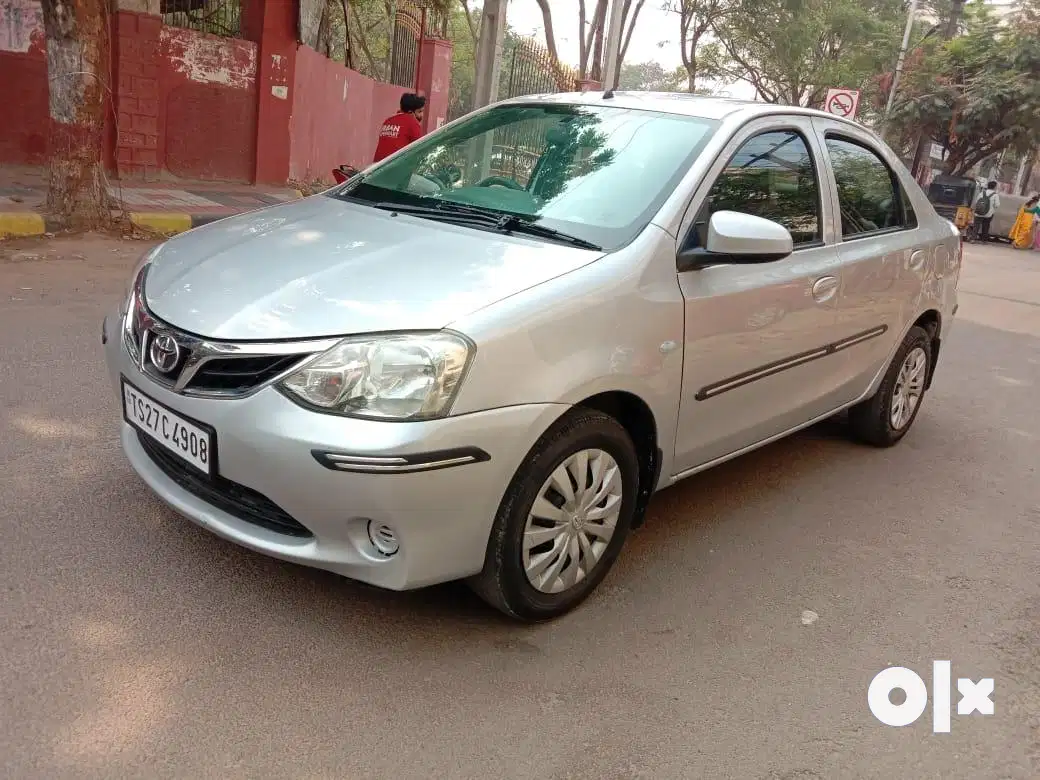car: (83, 84, 980, 639)
numberplate: (116, 378, 232, 489)
